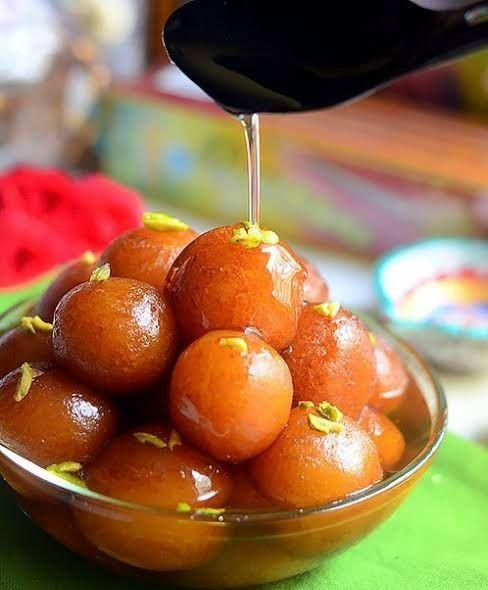GulabJamun: (74, 427, 234, 575), (256, 403, 383, 549), (168, 223, 300, 352), (0, 362, 117, 504), (169, 329, 292, 464), (53, 276, 177, 392), (299, 300, 371, 419), (99, 212, 201, 279), (35, 251, 98, 320), (1, 316, 55, 370), (373, 335, 407, 417)
